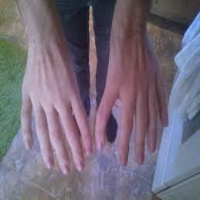ring: (33, 104, 54, 173), (147, 82, 158, 163)
